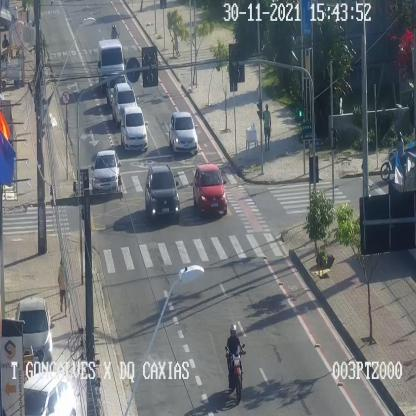car: (17, 296, 55, 364), (25, 372, 81, 416), (146, 164, 180, 221), (192, 165, 228, 216), (98, 38, 128, 91), (92, 149, 121, 195), (120, 106, 149, 149), (169, 112, 199, 153), (113, 80, 139, 126)
motorbike: (381, 132, 413, 182), (226, 324, 246, 402)
person: (56, 258, 68, 314), (262, 104, 271, 153)
